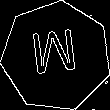M_S: (30, 29, 82, 84)
